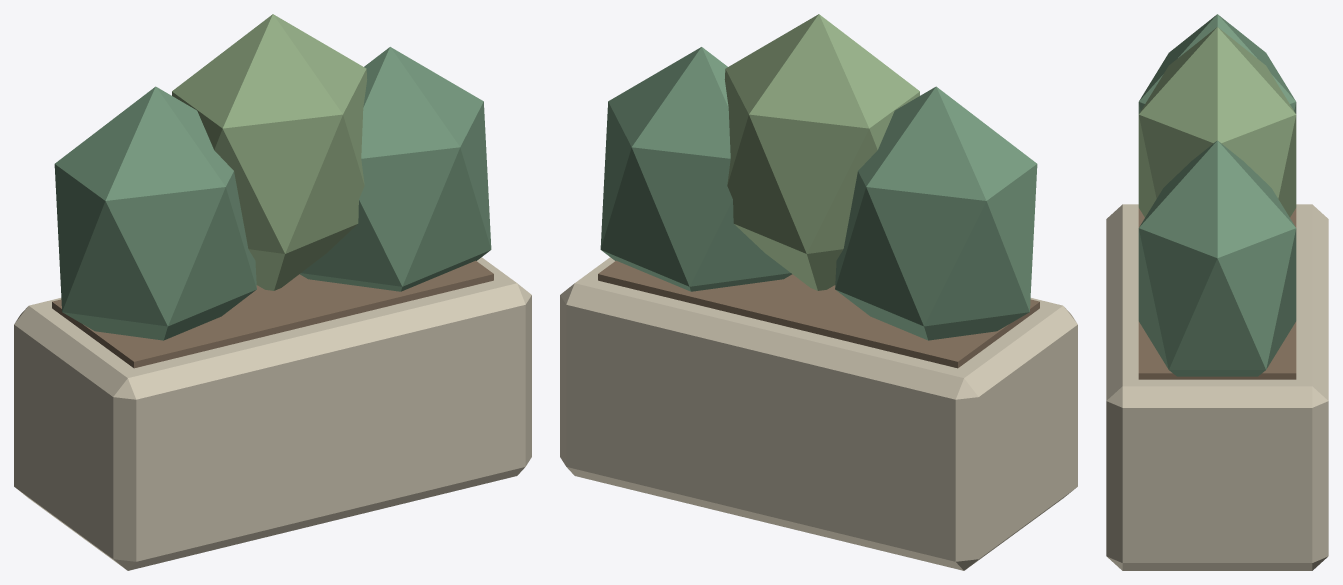
File: planter.glb
3 views of the same model, side by side, from view 1: azimuth 30°, elevation 25°; view 2: azimuth 150°, elevation 25°; view 3: azimuth 270°, elevation 25° (orthographic). The views are drawn at different scales.
Visible parts, largest first — view 1: CITY_planter; view 2: CITY_planter; view 3: CITY_planter.
Part boxes in pixels (x1=…): CITY_planter: x1=14, y1=14, x2=531, y2=570; CITY_planter: x1=560, y1=14, x2=1077, y2=570; CITY_planter: x1=1106, y1=14, x2=1328, y2=570.
Size of the model in its own units: 1.01 by 1.08 by 0.48.
